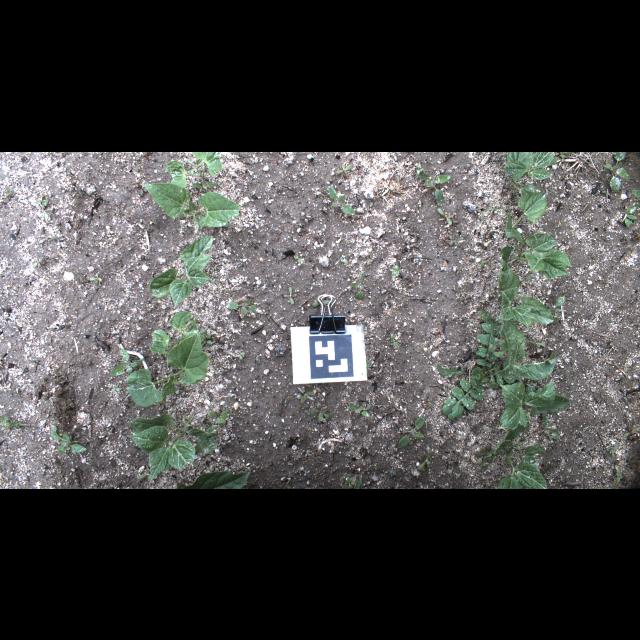crop: (126, 412, 218, 483), (125, 332, 209, 406), (498, 231, 572, 303), (140, 181, 240, 231), (149, 236, 213, 308), (497, 378, 571, 432), (499, 315, 558, 379), (496, 419, 548, 488), (500, 151, 554, 201), (498, 288, 554, 328), (150, 311, 200, 355), (505, 191, 547, 243), (165, 152, 222, 188), (174, 472, 250, 488)
weed: (437, 310, 523, 420), (416, 162, 454, 208), (51, 424, 88, 454), (604, 151, 630, 191), (397, 414, 425, 448), (327, 184, 355, 214), (479, 204, 511, 230), (206, 410, 232, 434), (545, 296, 567, 324), (224, 298, 262, 314), (349, 268, 366, 300), (600, 464, 622, 488), (476, 442, 496, 462), (416, 449, 434, 471), (0, 414, 28, 428), (37, 194, 51, 222), (138, 464, 160, 480), (350, 402, 372, 418), (304, 409, 332, 421), (198, 328, 214, 348), (546, 152, 572, 164), (297, 386, 315, 402), (312, 292, 332, 306), (624, 206, 636, 228), (190, 178, 216, 188), (133, 180, 149, 196), (436, 208, 452, 224), (335, 162, 353, 174), (283, 285, 295, 303), (342, 478, 362, 488), (88, 272, 102, 286), (334, 251, 348, 265), (458, 290, 472, 304), (623, 422, 637, 436), (389, 330, 398, 348), (631, 188, 639, 208), (606, 445, 618, 457), (391, 262, 401, 276), (366, 250, 376, 264), (33, 258, 45, 268), (447, 233, 457, 245), (299, 214, 313, 222), (282, 478, 292, 488), (110, 382, 120, 392), (294, 253, 304, 263), (423, 396, 432, 406), (346, 478, 356, 487), (198, 382, 206, 392), (476, 460, 486, 468), (238, 350, 244, 360), (366, 360, 372, 368), (422, 338, 430, 344), (478, 259, 484, 267), (310, 282, 320, 286)
